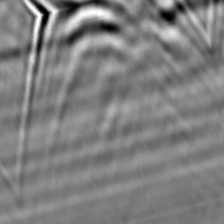Utility: (19, 1, 224, 99)
